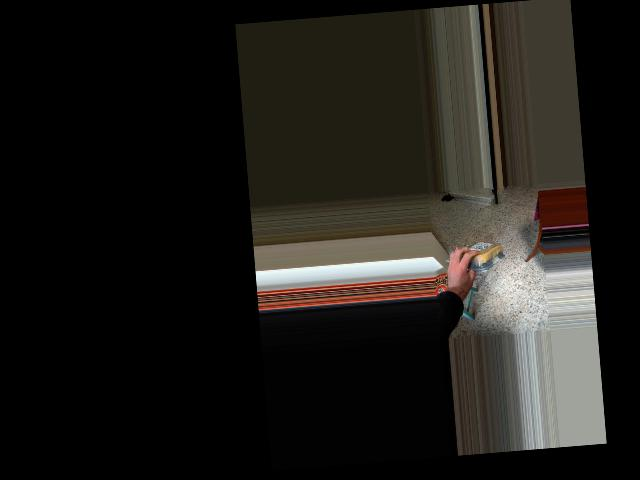cheese: (451, 237, 507, 274)
